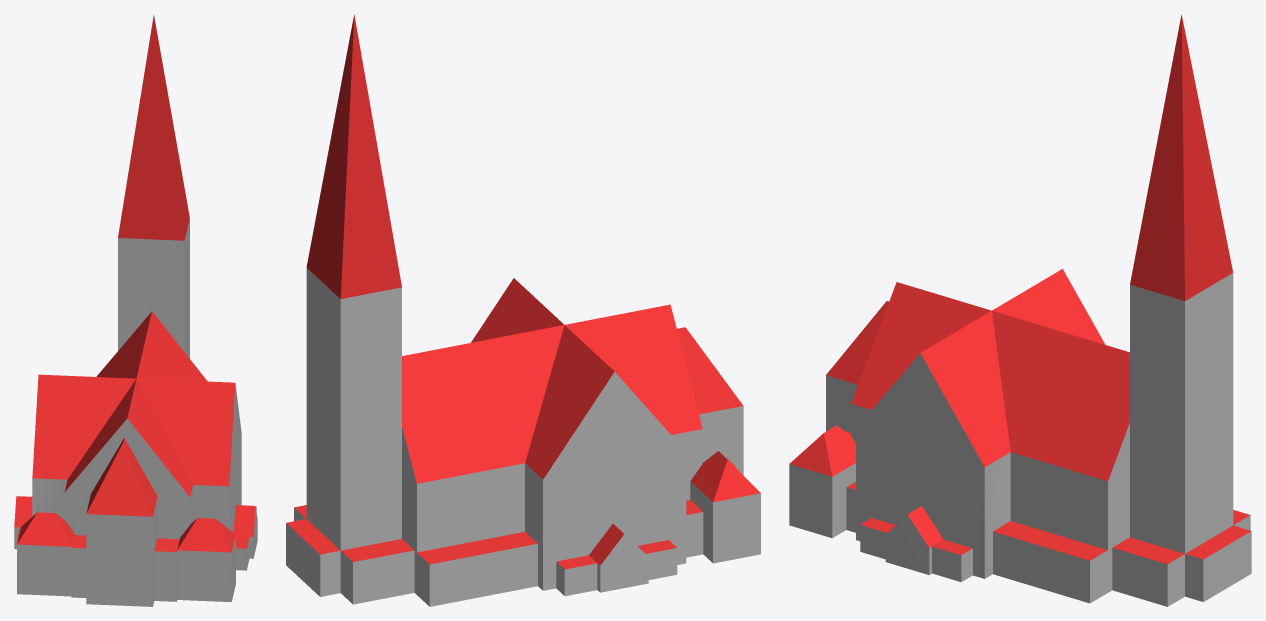
3 views of the same model, side by side, from view 1: azimuth 30°, elevation 25°; view 2: azimuth 150°, elevation 25°; view 3: azimuth 270°, elevation 25° (orthographic). The views are drawn at different scales.
Bounding box in the file's own units: 54.61 × 61.35 × 82.
